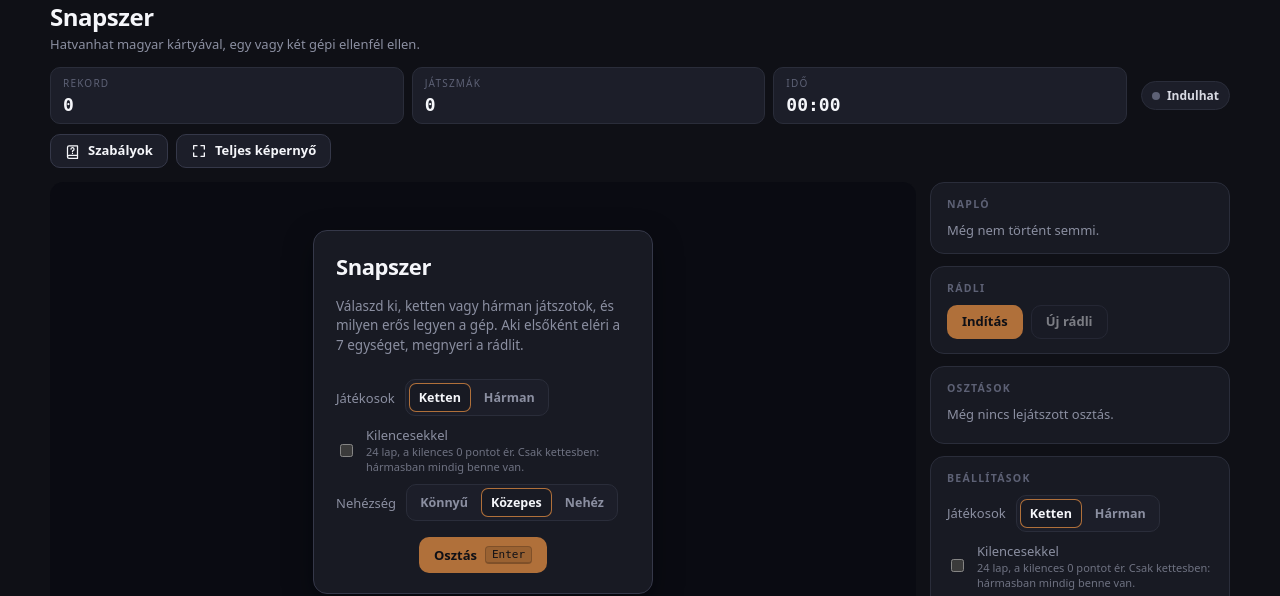
Scenario: Snapszer finish early (only between deals) › is hidden before the match starts and offered once it runs, before the first move
Check: the button "Befejezés" is not shown
Click the button "Osztás Enter".
click(483, 555)  # box [419,537,547,574]
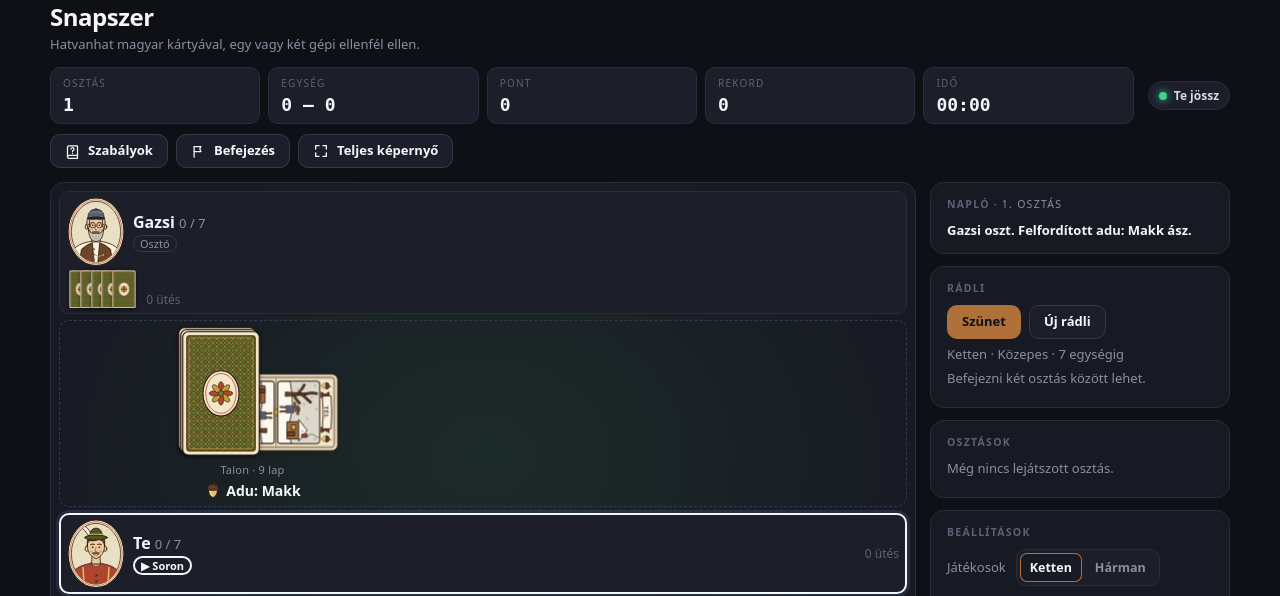
Check: the button "Befejezés" is enabled, box [176,134,290,168]
